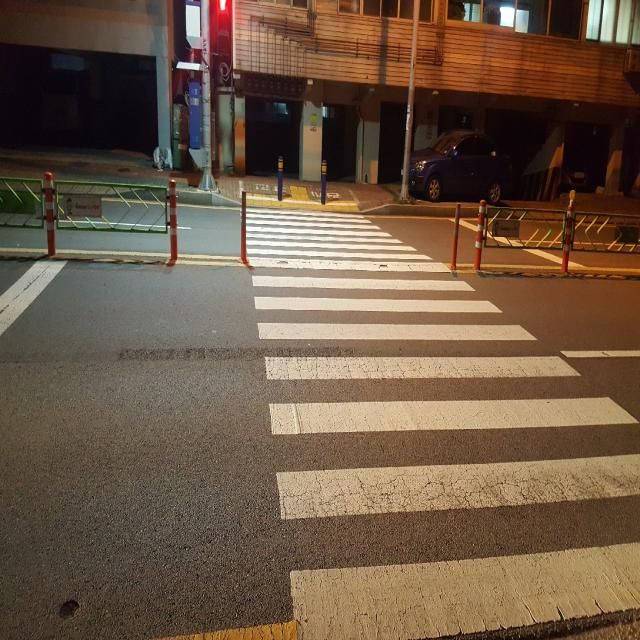빨간불: (215, 0, 232, 58)
횡단보도: (239, 208, 640, 640)
